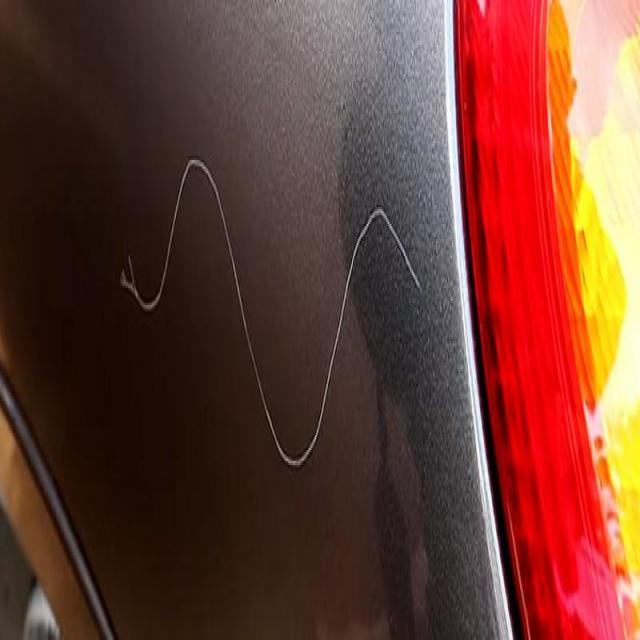scratch: (113, 116, 429, 496)
